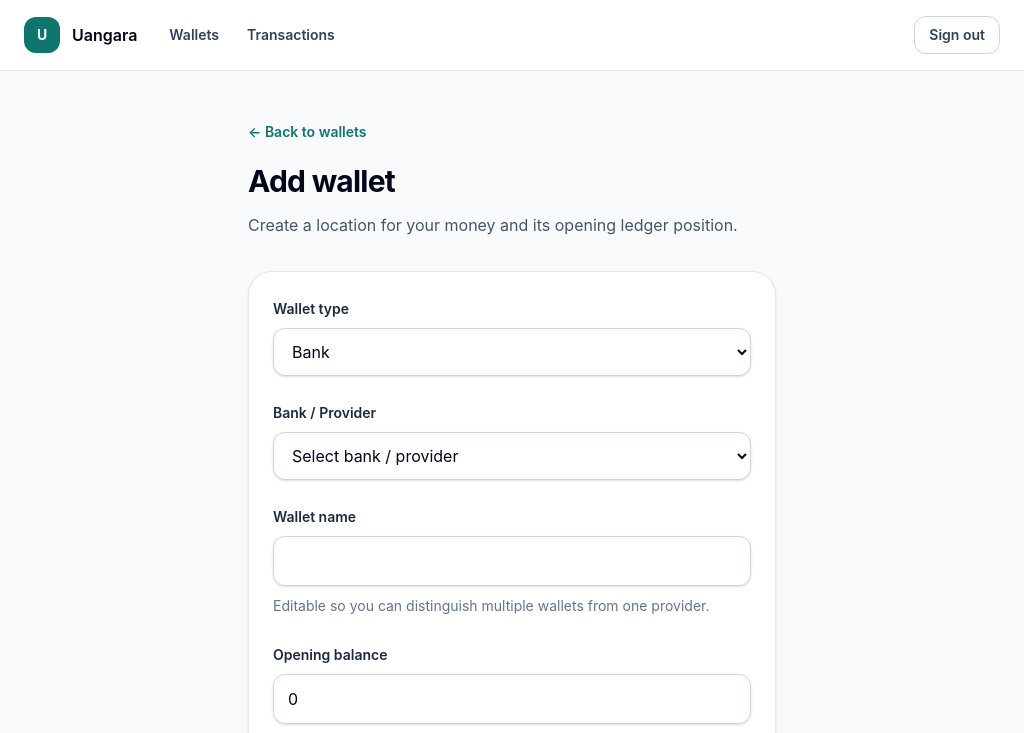
Test case: wallet management flow › keeps Other for actual money locations without saving-goal suggestions
The image size is (1024, 733).
Select "Other" in the dropdown labelled "Wallet type" at point(512, 352), box x1=273 y1=328 x2=751 y2=376
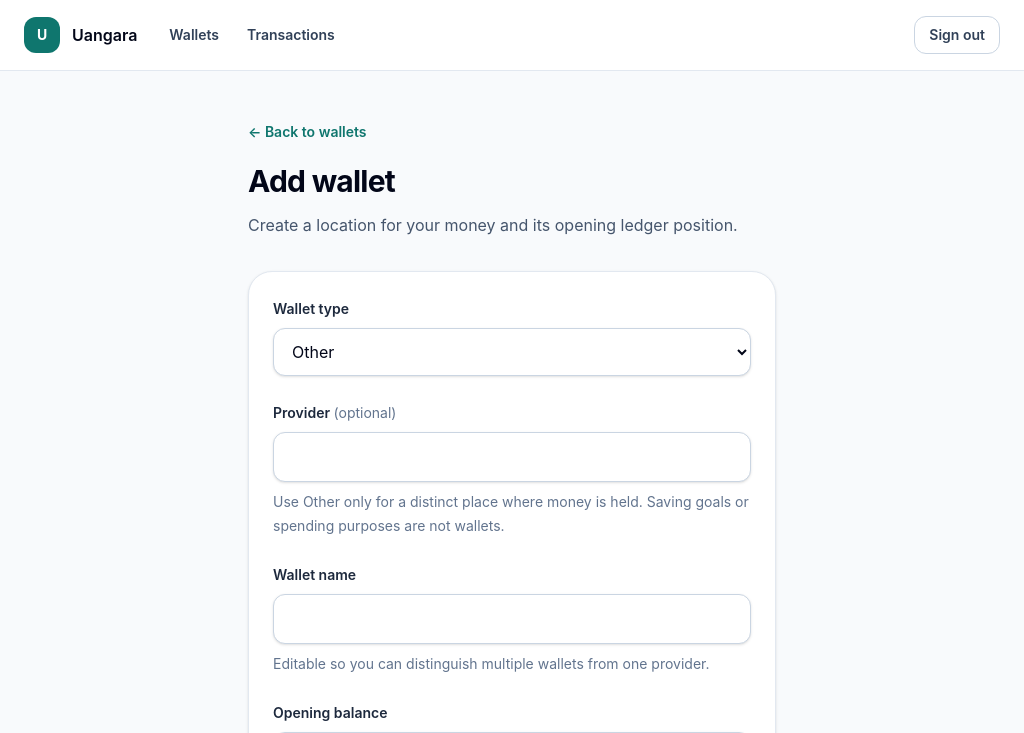
Check: the text "saving goals or spending purposes are not wallets" is shown, box x1=273 y1=493 x2=749 y2=534
